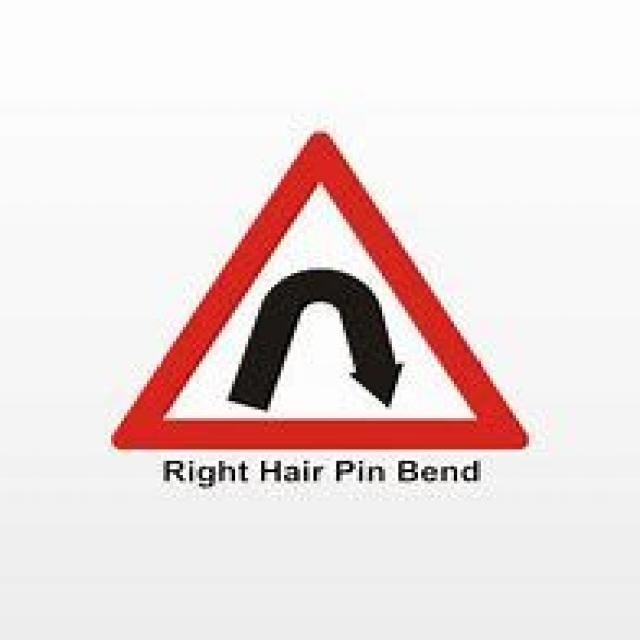RIGHT_HAIR_PIN_BEND: (104, 125, 529, 450)
